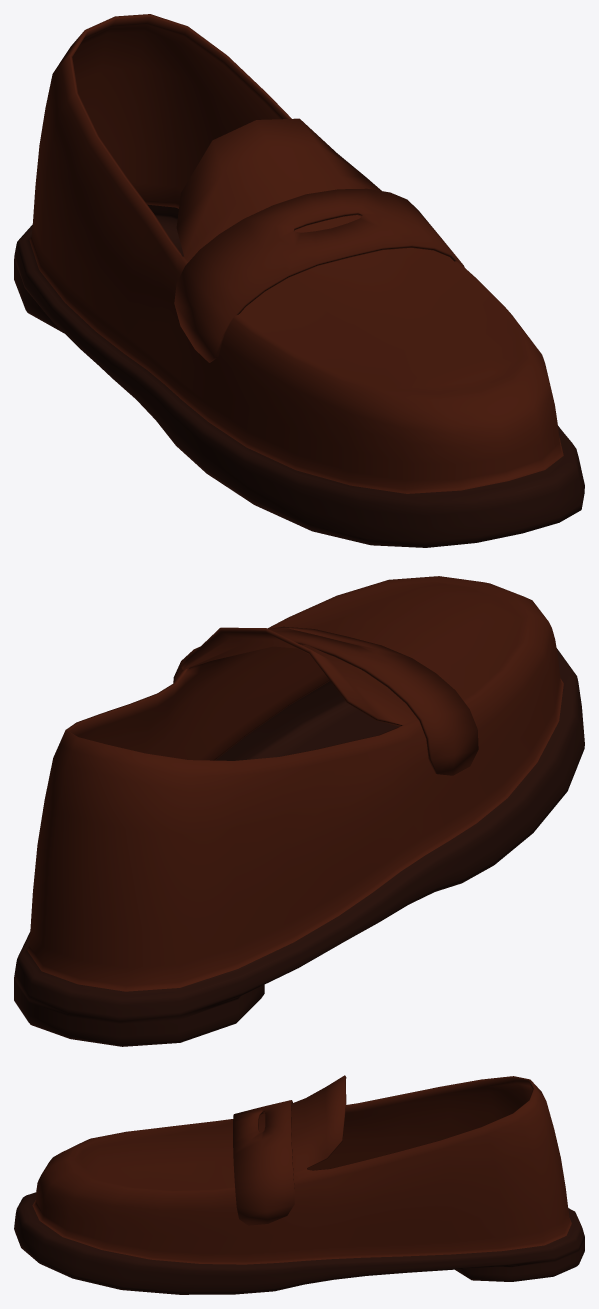
Rendered from ローファー 右.fbx.
3 views of the same model, one above another, from view 1: azimuth 30°, elevation 25°; view 2: azimuth 150°, elevation 25°; view 3: azimuth 270°, elevation 25° (orthographic). The views are drawn at different scales.
Parts seen in each view (by area): view 1: ローファー 左.001; view 2: ローファー 左.001; view 3: ローファー 左.001.
Boxes of the visible parts, x1,y1,x2,y2 form: ローファー 左.001: [14, 14, 584, 547]; ローファー 左.001: [14, 576, 584, 1046]; ローファー 左.001: [14, 1075, 584, 1294].
Size of the model in its own units: 0.0891 by 0.0793 by 0.2407.
